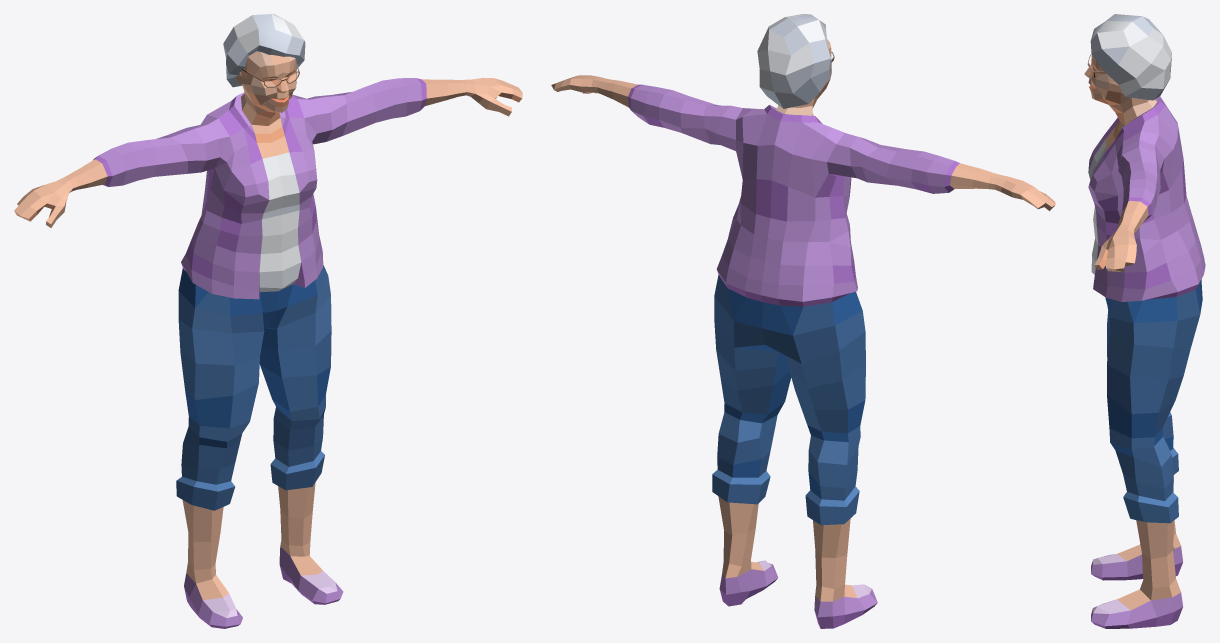
The model's file is elder_Female_A-model.fbx.
3 views of the same model, side by side, from view 1: azimuth 30°, elevation 25°; view 2: azimuth 150°, elevation 25°; view 3: azimuth 270°, elevation 25° (orthographic).
Parts seen in each view (by area): view 1: elder_Female_A, hair_oldLady; view 2: elder_Female_A, hair_oldLady; view 3: elder_Female_A, hair_oldLady.
Boxes of the visible parts, box(x1,y1,x2,y2) form: elder_Female_A: box(14, 51, 522, 628); hair_oldLady: box(223, 14, 305, 87); elder_Female_A: box(551, 39, 1055, 628); hair_oldLady: box(757, 14, 831, 108); elder_Female_A: box(1084, 54, 1205, 628); hair_oldLady: box(1090, 14, 1171, 100).
Size of the model in its own units: 146 by 162 by 30.56.
1 material, 1 textured.
